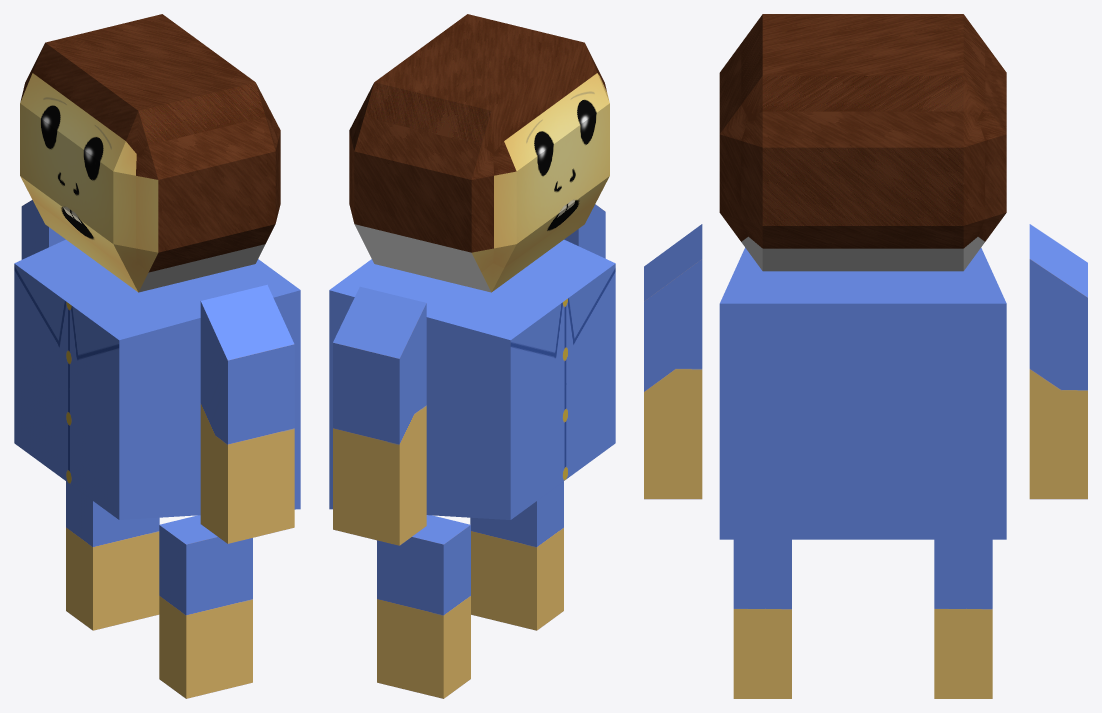
File: boy_brunette_scared.FBX
3 renders of one model, left to right at view 1: azimuth 30°, elevation 25°; view 2: azimuth 150°, elevation 25°; view 3: azimuth 270°, elevation 25°, orthographic. The views are drawn at different scales.
Parts seen in each view (by area): view 1: Box014, Box015, Box016, Box019, Box018, Box017; view 2: Box014, Box015, Box017, Box018, Box019, Box016; view 3: Box015, Box014, Box017, Box016, Box018, Box019.
Boxes of the visible parts, left/top/right/bottom form: Box014: left=20, top=14, right=280, bottom=292; Box015: left=14, top=239, right=300, bottom=519; Box016: left=200, top=284, right=294, bottom=543; Box019: left=159, top=515, right=252, bottom=698; Box018: left=66, top=481, right=159, bottom=630; Box017: left=21, top=200, right=65, bottom=259; Box014: left=349, top=14, right=609, bottom=292; Box015: left=329, top=239, right=615, bottom=519; Box017: left=333, top=286, right=426, bottom=545; Box018: left=377, top=515, right=470, bottom=698; Box019: left=470, top=481, right=563, bottom=630; Box016: left=564, top=204, right=605, bottom=258; Box015: left=719, top=247, right=1006, bottom=539; Box014: left=719, top=14, right=1006, bottom=271; Box017: left=1029, top=224, right=1087, bottom=499; Box016: left=644, top=224, right=702, bottom=499; Box018: left=934, top=539, right=992, bottom=698; Box019: left=733, top=539, right=791, bottom=698.
Size of the model in its own units: 14.51 by 48.58 by 30.93.
